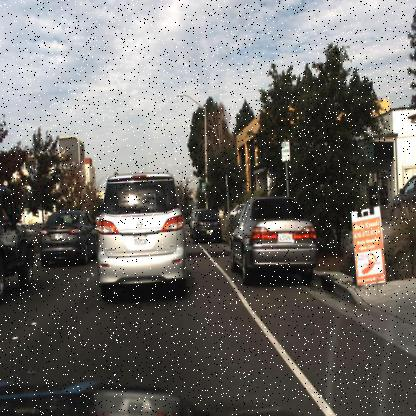car: (89, 165, 195, 309), (227, 191, 329, 296), (29, 200, 101, 274), (0, 174, 37, 304), (0, 180, 36, 298), (382, 166, 416, 215), (191, 206, 222, 248)
